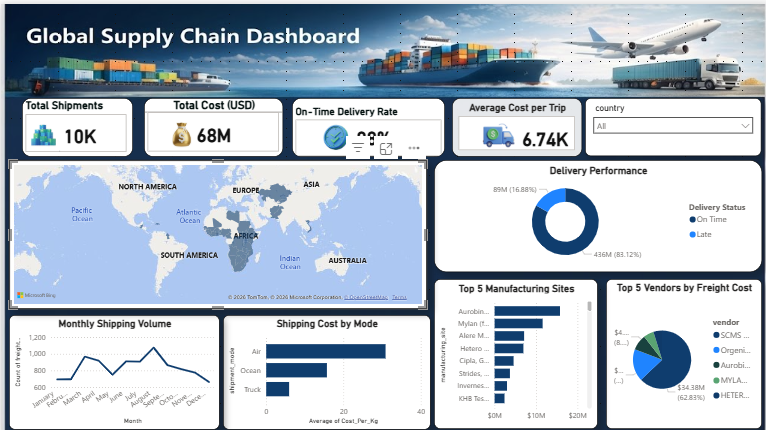

This screenshot's page, from the dashboard's own definition file:
{"tool":"powerbi","page":{"name":"Page 1","canvas":[1280,720],"ordinal":0},"visuals":[{"type":"map","fields":{"Category":["Final_Cleaned_Supply_Chain.country"]},"box":[12.9,260,697.1,248.6],"z":0},{"type":"clusteredBarChart","title":"Shipping Cost by Mode","fields":{"Category":["Final_Cleaned_Supply_Chain.shipment_mode"],"Y":["Avg(Final_Cleaned_Supply_Chain.Cost_Per_Kg)"]},"box":[370,518.6,345.7,191.4],"z":1000},{"type":"slicer","fields":{"Values":["Final_Cleaned_Supply_Chain.country"]},"box":[972.9,157.1,294.3,97.1],"z":2000},{"type":"lineChart","title":"Monthly Shipping Volume","fields":{"Category":["Final_Cleaned_Supply_Chain.scheduled_delivery_date.Variation.Date Hierarchy.Month"],"Y":["CountNonNull(Final_Cleaned_Supply_Chain.freight_cost_usd)"]},"box":[12.9,518.6,351.4,191.4],"z":3000},{"type":"donutChart","title":"Delivery Performance","fields":{"Category":["Final_Cleaned_Supply_Chain.Delivery Status"],"Y":["Sum(Final_Cleaned_Supply_Chain.id)"]},"box":[721.7,260,546.7,186.7],"z":4000},{"type":"cardVisual","title":"Total Shipments","fields":{"Data":["CountNonNull(Final_Cleaned_Supply_Chain.id)"]},"box":[35,156.7,185,98.3],"z":5000},{"type":"cardVisual","title":"Total Cost (USD)","fields":{"Data":["Sum(Final_Cleaned_Supply_Chain.freight_cost_usd)"]},"box":[238.3,156.7,231.7,98.3],"z":6000},{"type":"cardVisual","title":"On-Time Delivery Rate","fields":{"Data":["Final_Cleaned_Supply_Chain.On Time %"]},"box":[485,156.7,255,98.3],"z":7000},{"type":"pieChart","title":"Top 5 Vendors by Freight Cost","fields":{"Category":["Final_Cleaned_Supply_Chain.vendor"],"Y":["Sum(Final_Cleaned_Supply_Chain.freight_cost_usd)"]},"box":[1008.9,458.9,260,250],"z":8000},{"type":"clusteredBarChart","title":"Top 5 Manufacturing Sites","fields":{"Category":["Final_Cleaned_Supply_Chain.manufacturing_site"],"Y":["Sum(Final_Cleaned_Supply_Chain.freight_cost_usd)"]},"box":[722.2,458.9,273.3,250],"z":9000},{"type":"image","box":[31.7,183.3,78.3,70],"z":10000},{"type":"image","box":[251.7,181.7,98.3,75],"z":11000},{"type":"image","box":[517.1,181.4,82.9,85.7],"z":12000},{"type":"cardVisual","title":"Average Cost per Trip","fields":{"Data":["Final_Cleaned_Supply_Chain.Avg Shipment Cost"]},"box":[751.7,156.7,216.7,98.3],"z":13000},{"type":"image","box":[778.2,177.3,101.8,83.6],"z":14000}]}

Visuals, with their boxes in screenshot pixels (x1, y1, x2, y2), scaled from the page's 1280x720 canvas onto the 766x430 screenshot:
map - Final_Cleaned_Supply_Chain.country: [8,155,425,304]
"Shipping Cost by Mode" clusteredBarChart: [221,310,428,424]
slicer - Final_Cleaned_Supply_Chain.country: [582,94,758,152]
"Monthly Shipping Volume" lineChart: [8,310,218,424]
"Delivery Performance" donutChart: [432,155,759,267]
"Total Shipments" cardVisual: [21,94,132,152]
"Total Cost (USD)" cardVisual: [143,94,281,152]
"On-Time Delivery Rate" cardVisual: [290,94,443,152]
"Top 5 Vendors by Freight Cost" pieChart: [604,274,759,423]
"Top 5 Manufacturing Sites" clusteredBarChart: [432,274,596,423]
image: [19,109,66,151]
image: [151,109,209,153]
image: [309,108,359,160]
"Average Cost per Trip" cardVisual: [450,94,580,152]
image: [466,106,527,156]
